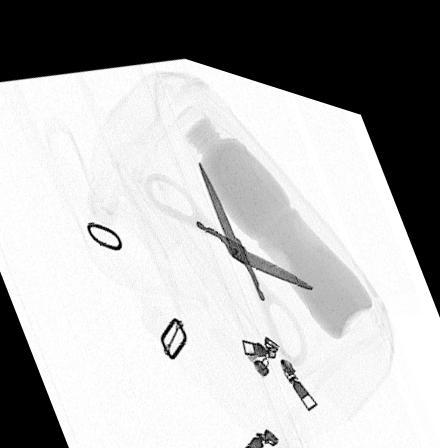Scissors: (145, 147, 315, 348)
